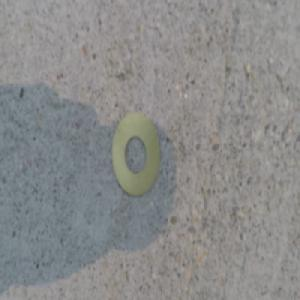Washer: (112, 112, 161, 199)
